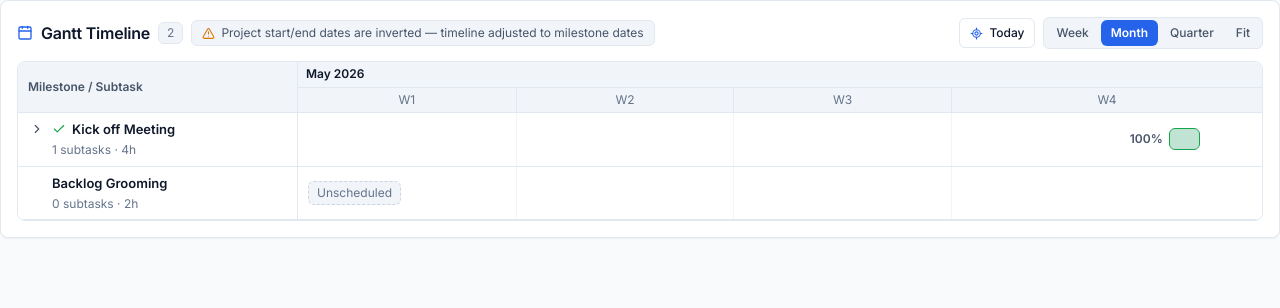
PlanGantt › defaults to Month view on single project, shows inverted date notice, Unscheduled pill, subtask expansion, and click-to-edit
Later steps or results of the test are not shown.
Expected: the text "Project start/end dates are inverted" is shown, [221,25,644,40]
Expected: the text "May 2026" is shown, [306,66,364,81]
Click the button named "Expand subtasks". click: point(37, 129)
box: [28,120,46,138]
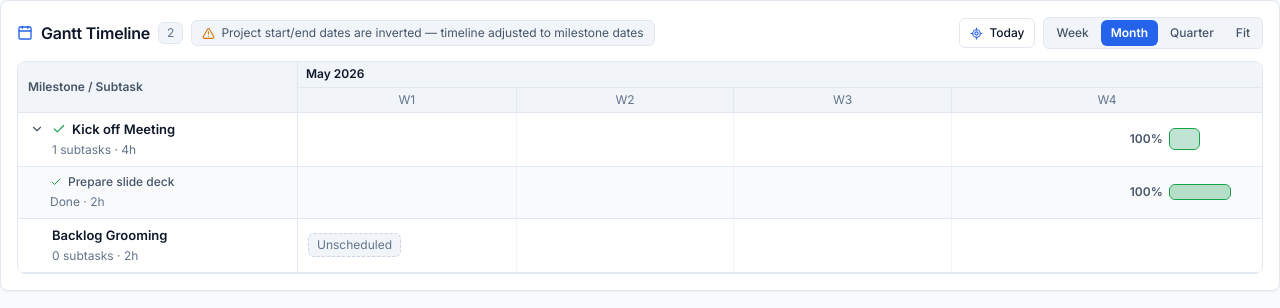
Now the text "Prepare slide deck" is shown, box [68,173,174,191]
# Switch to Quarter and Fit views
Click the button "Quarter". click: point(1192, 33)
box: [1160,20,1224,46]
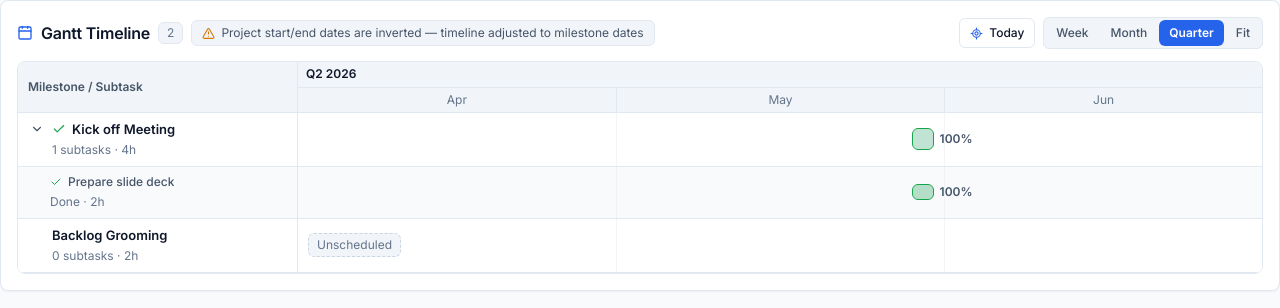
Now the text "Q2 2026" is shown, box [306,66,356,81]
